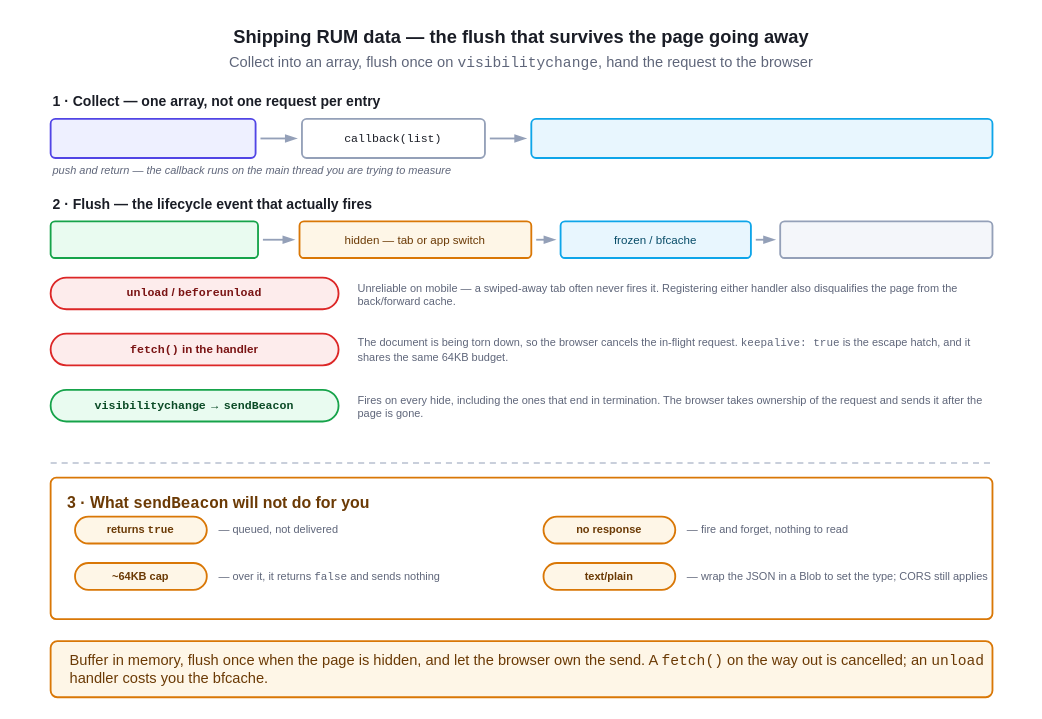
The diagram is 1042 pixels wide and 719 high, and some of its shapes have lost their labels. Each missing label, with the centre of its shape:
metrics[] — LCP · CLS · INP · your own marks: (x=761, y=137)
PerformanceObserver: (x=152, y=137)
terminated: (x=886, y=239)
visible: (x=153, y=239)
